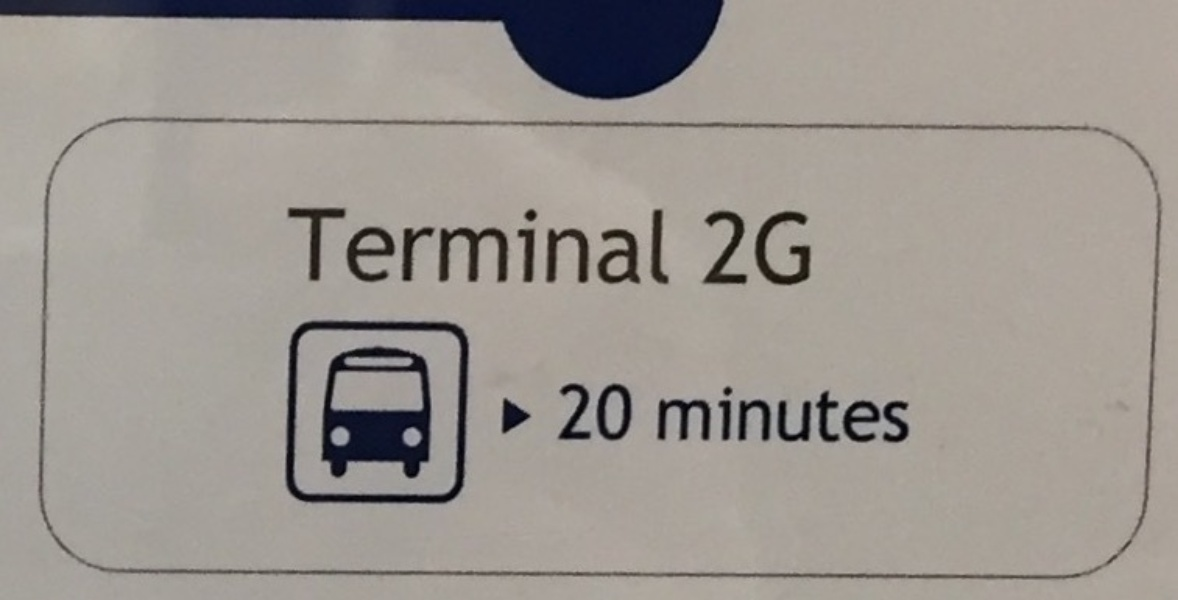text: (289, 206, 304, 286), (305, 206, 320, 286), (321, 206, 336, 286), (337, 206, 352, 286), (353, 206, 368, 286), (369, 206, 384, 286), (385, 206, 400, 286), (401, 206, 416, 286), (417, 206, 432, 286), (433, 206, 448, 286), (449, 206, 464, 286), (465, 206, 480, 286), (481, 206, 496, 286), (497, 206, 512, 286), (513, 206, 528, 286), (529, 206, 544, 286), (545, 206, 560, 286), (561, 206, 576, 286), (577, 206, 592, 286), (593, 206, 608, 286), (609, 206, 624, 286), (625, 206, 640, 286), (641, 206, 656, 286), (705, 209, 720, 287), (721, 209, 736, 287), (737, 209, 752, 287), (753, 209, 768, 287), (769, 209, 784, 287), (785, 209, 800, 287), (657, 206, 671, 286), (801, 209, 815, 287), (561, 381, 576, 442), (577, 381, 592, 442), (593, 381, 608, 442), (609, 381, 624, 442), (657, 385, 672, 445), (673, 385, 688, 445), (689, 385, 704, 445), (705, 385, 720, 445), (721, 385, 736, 445), (737, 385, 752, 445), (753, 385, 768, 445), (769, 385, 784, 445), (785, 385, 800, 445), (801, 385, 816, 445), (817, 385, 832, 445), (833, 385, 848, 445), (849, 385, 864, 445), (865, 385, 880, 445), (881, 385, 896, 445), (897, 385, 912, 445), (625, 381, 633, 442), (286, 206, 288, 286), (558, 381, 560, 442), (703, 209, 704, 287)
